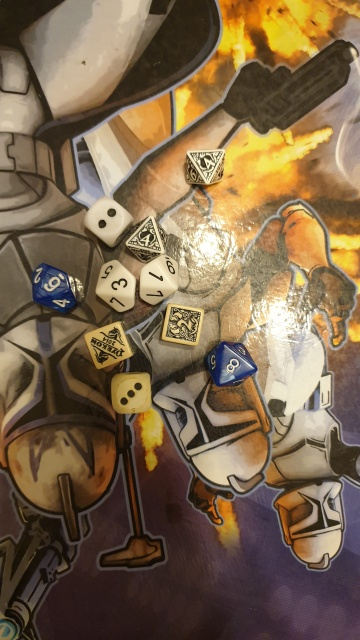d10-1: (134, 250, 181, 310)
d10-3: (92, 258, 136, 314)
d10-6: (30, 260, 78, 319)
d10-8: (207, 336, 255, 387)
d6-2: (80, 193, 127, 242)
d6-3: (108, 371, 152, 415)
d6p-1: (80, 319, 136, 372)
d6p-2: (160, 303, 204, 350)
d8p-4: (181, 144, 230, 189), (123, 214, 169, 258)
